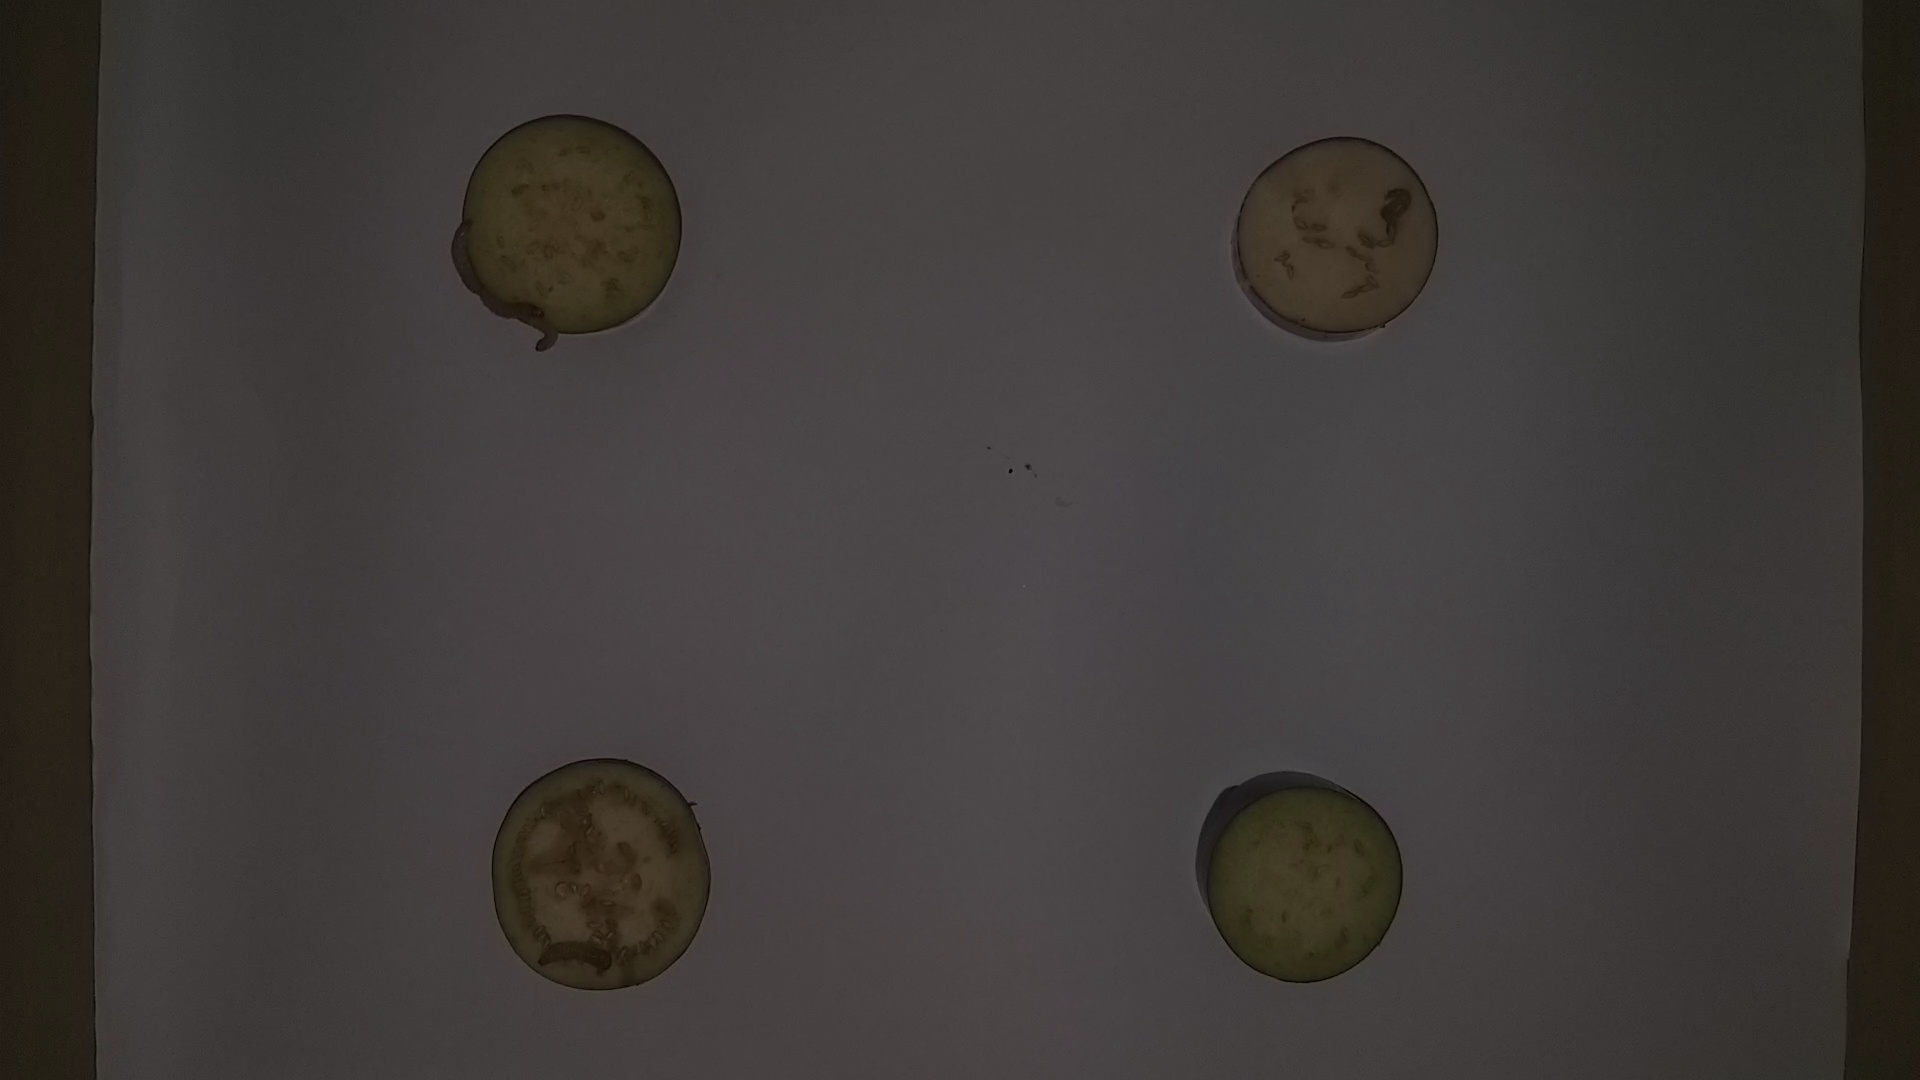efsb: (531, 938, 618, 976), (444, 218, 483, 295), (472, 281, 547, 320), (513, 311, 563, 357), (1382, 179, 1418, 225)
